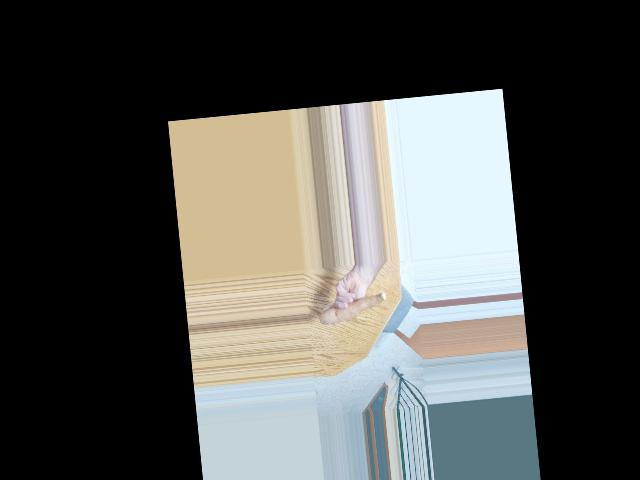sweet_potato: (318, 289, 390, 327)
